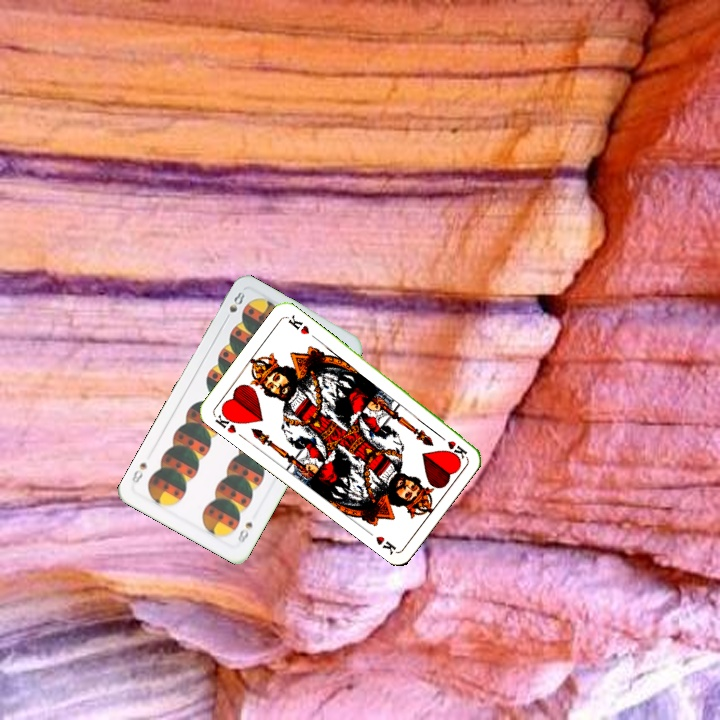HK: (433, 429, 470, 460), (211, 406, 241, 436)
S8: (225, 288, 247, 315), (234, 518, 255, 546)
